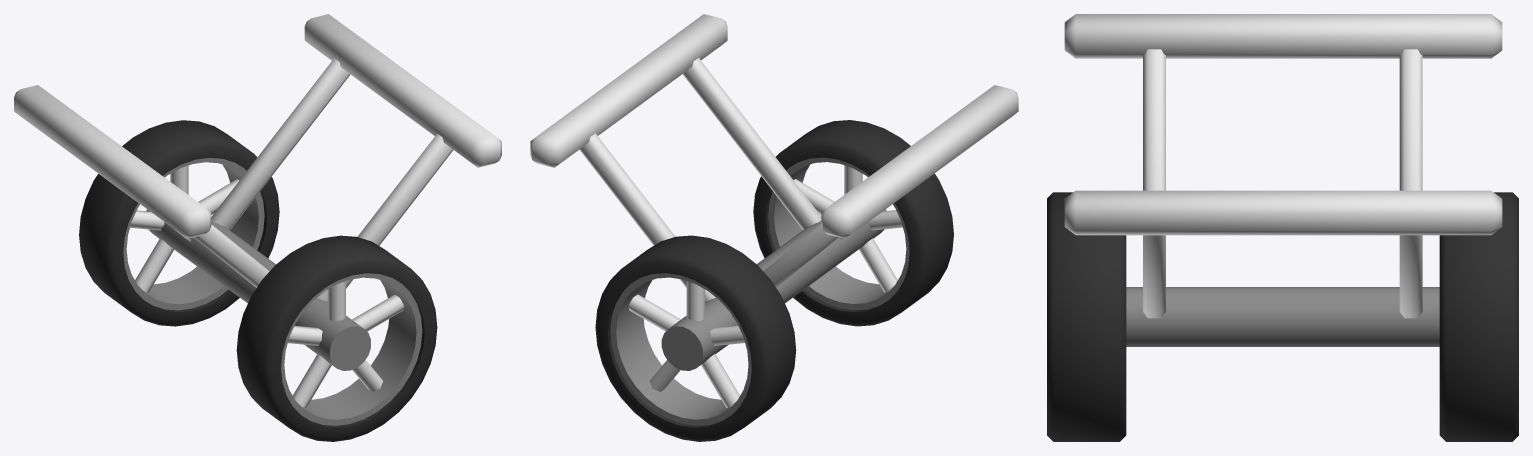
The model's file is wheels_rubber_small.fbx.
3 views of the same model, side by side, from view 1: azimuth 30°, elevation 25°; view 2: azimuth 150°, elevation 25°; view 3: azimuth 270°, elevation 25° (orthographic). The views are drawn at different scales.
Visible parts, largest first — view 1: wheels_rubber_small; view 2: wheels_rubber_small; view 3: wheels_rubber_small.
Boxes of the visible parts, <box> form: wheels_rubber_small: <box>14,14,501,441</box>; wheels_rubber_small: <box>530,14,1018,441</box>; wheels_rubber_small: <box>1047,14,1518,441</box>.
Bounding box in the file's own units: 199 × 154 × 204.
